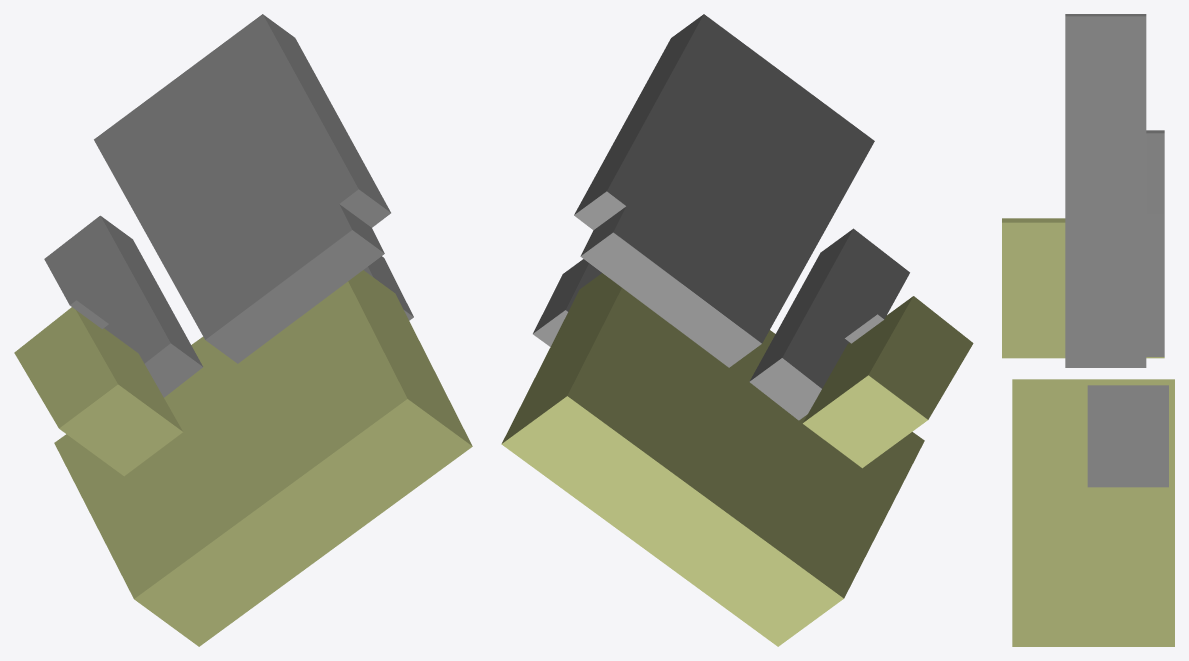
3 views of the same model, side by side, from view 1: azimuth 30°, elevation 25°; view 2: azimuth 150°, elevation 25°; view 3: azimuth 270°, elevation 25° (orthographic). The views are drawn at different scales.
Visible parts, largest first — view 1: 0_1_1_3_2_2_3_0_2_2; view 2: 0_1_1_3_2_2_3_0_2_2; view 3: 0_1_1_3_2_2_3_0_2_2.
Part boxes in pixels (x1,y1,x2,y2): 0_1_1_3_2_2_3_0_2_2: (14,14,472,646); 0_1_1_3_2_2_3_0_2_2: (501,14,973,646); 0_1_1_3_2_2_3_0_2_2: (1002,14,1174,646).
Size of the model in its own units: 21.12 by 28.69 by 6.38.
